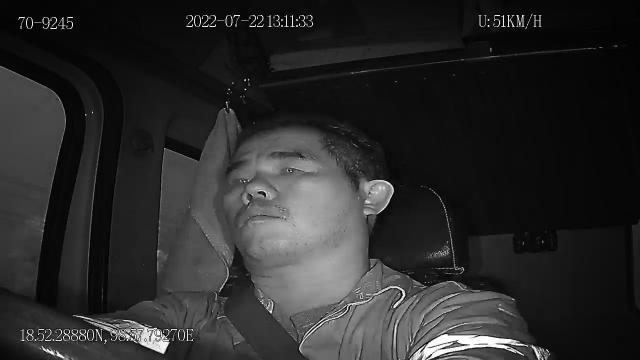SafeDriving: (270, 154, 315, 180)
Seatbelt: (220, 284, 302, 360)
